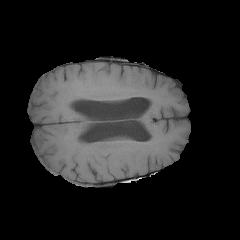glioma: (69, 79, 153, 99)
